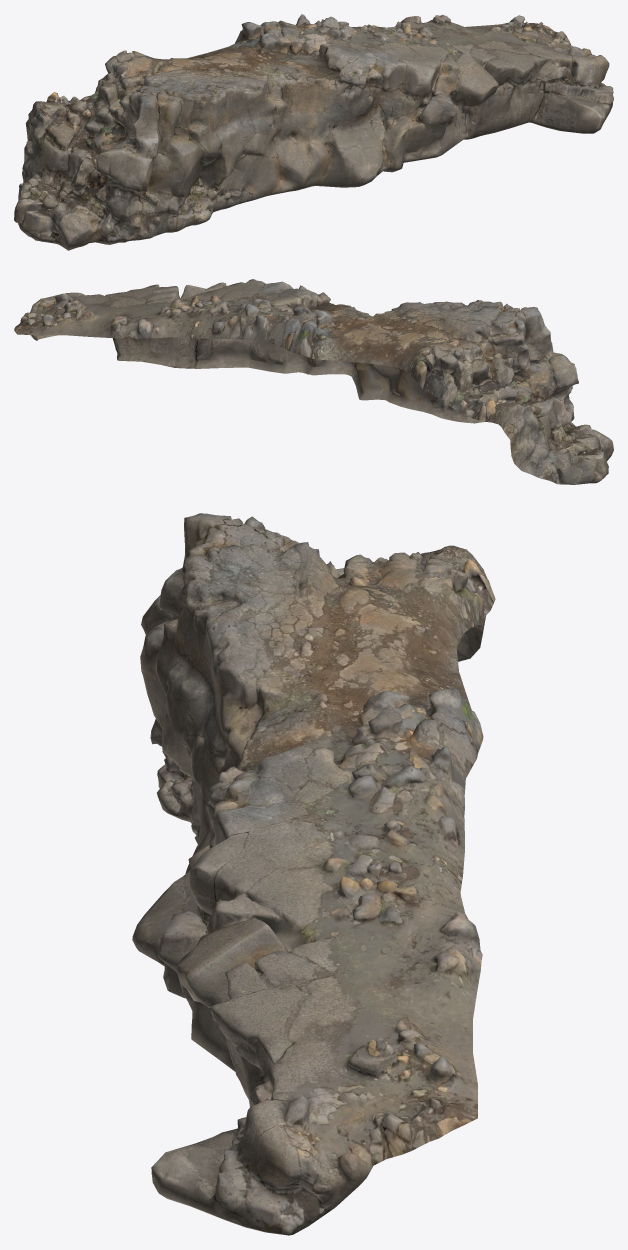
File: jagged_rock_cluster.glb
3 renders of one model, top to bottom at view 1: azimuth 30°, elevation 25°; view 2: azimuth 150°, elevation 25°; view 3: azimuth 270°, elevation 25°, orthographic. The views are drawn at different scales.
Visible parts, largest first — view 1: Aset_rock_assembly_XL_shxxJ_LOD0__0; view 2: Aset_rock_assembly_XL_shxxJ_LOD0__0; view 3: Aset_rock_assembly_XL_shxxJ_LOD0__0.
Boxes of the visible parts, box(x1,y1,x2,y2) form: Aset_rock_assembly_XL_shxxJ_LOD0__0: box(14, 14, 613, 250); Aset_rock_assembly_XL_shxxJ_LOD0__0: box(14, 279, 613, 484); Aset_rock_assembly_XL_shxxJ_LOD0__0: box(132, 513, 495, 1235).
Bounding box in the file's own units: 15.48 × 3.47 × 4.22.
1 material, 1 textured.
